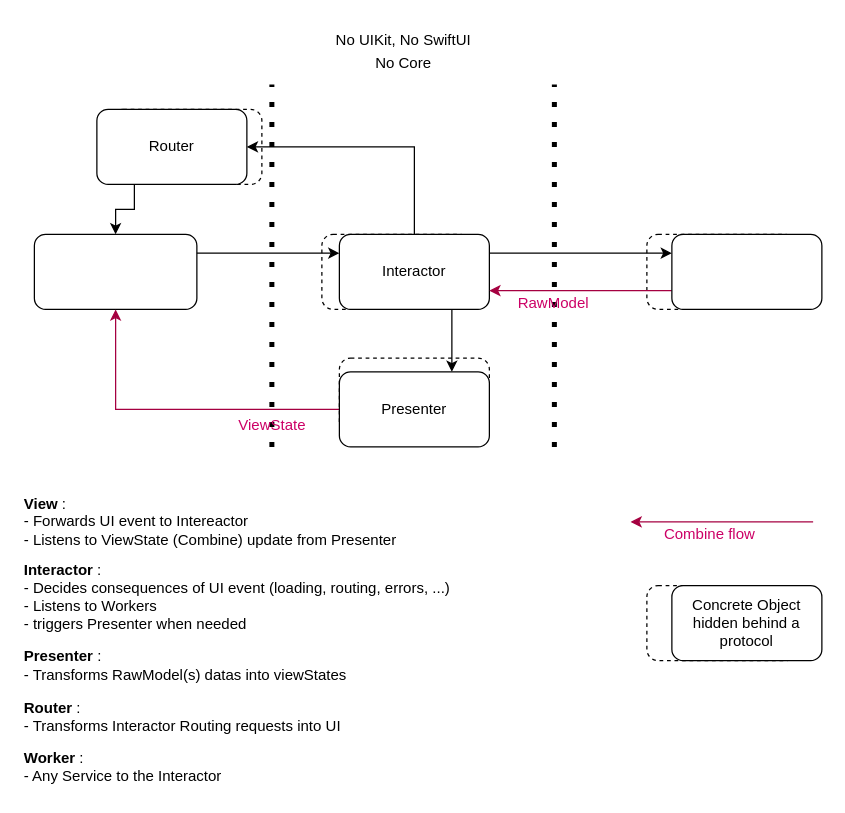
Image size: 845x813. Some labels were removed from this diagram. The box of each missing label's shape, as (x1, y1, x2, y2) in pixels:
View: (33, 233, 197, 309)
Worker: (671, 233, 822, 309)
